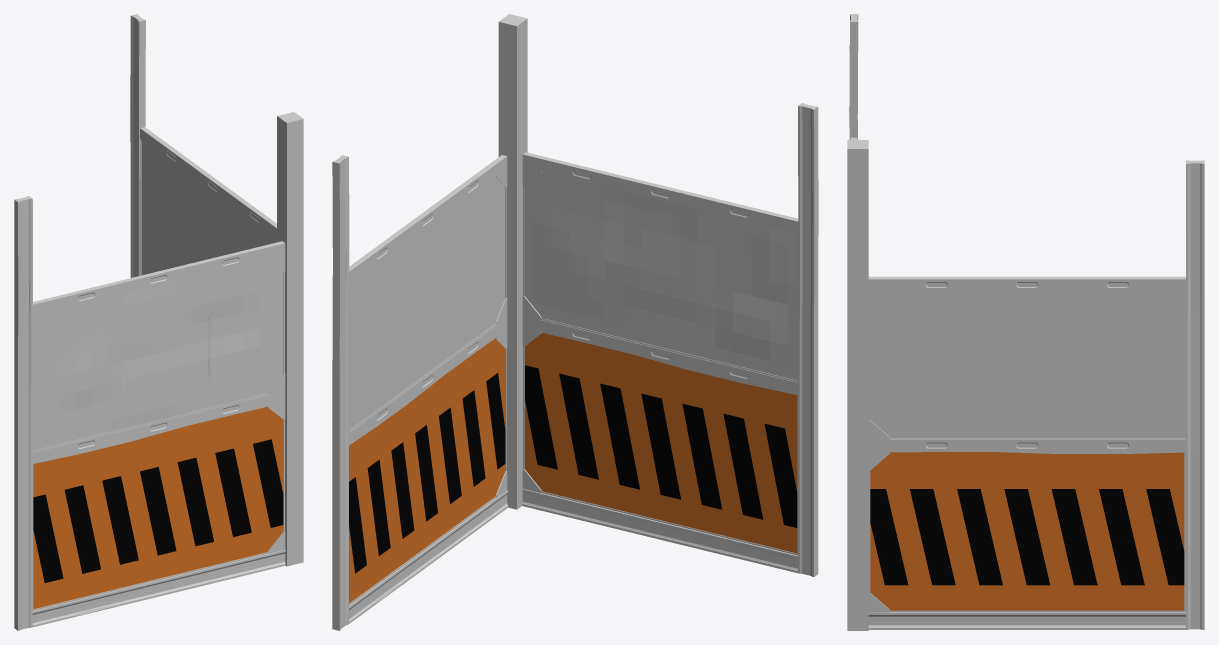
File: SM_Wall_Angle_05.glb
3 views of the same model, side by side, from view 1: azimuth 30°, elevation 25°; view 2: azimuth 150°, elevation 25°; view 3: azimuth 270°, elevation 25° (orthographic). The views are drawn at different scales.
Parts seen in each view (by area): view 1: SM_Wall_Angle_05; view 2: SM_Wall_Angle_05; view 3: SM_Wall_Angle_05.
Part boxes in pixels (<box>): SM_Wall_Angle_05: <box>14,14,303,630</box>; SM_Wall_Angle_05: <box>332,14,818,630</box>; SM_Wall_Angle_05: <box>847,14,1204,630</box>.
Bounding box in the file's own units: 2.01 × 3 × 2.01.
